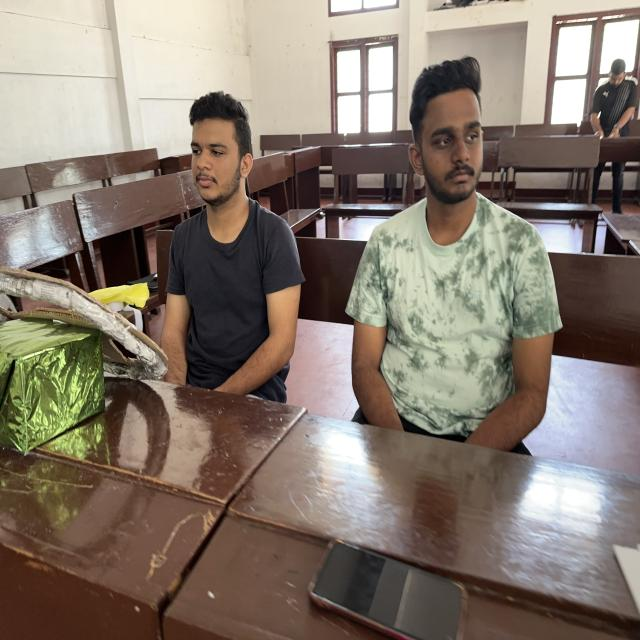Helmet: (350, 194, 561, 465), (156, 205, 302, 422)
